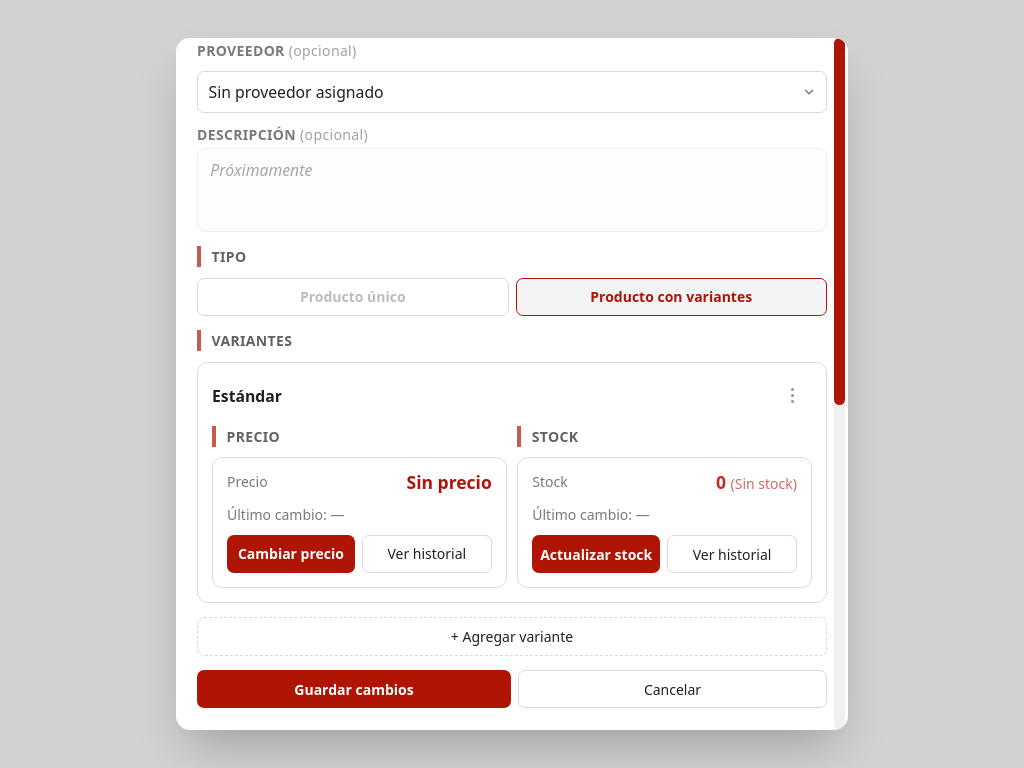
ProductDetailPage › changes a variant price through the modal
The image size is (1024, 768).
(page scrolled)
Expected: the text "Sin precio" is shown, top-left (406, 472), bottom-right (492, 494)
Click the button "Cambiar precio" at coordinates (291, 554), box top-left (227, 535), bottom-right (355, 573)
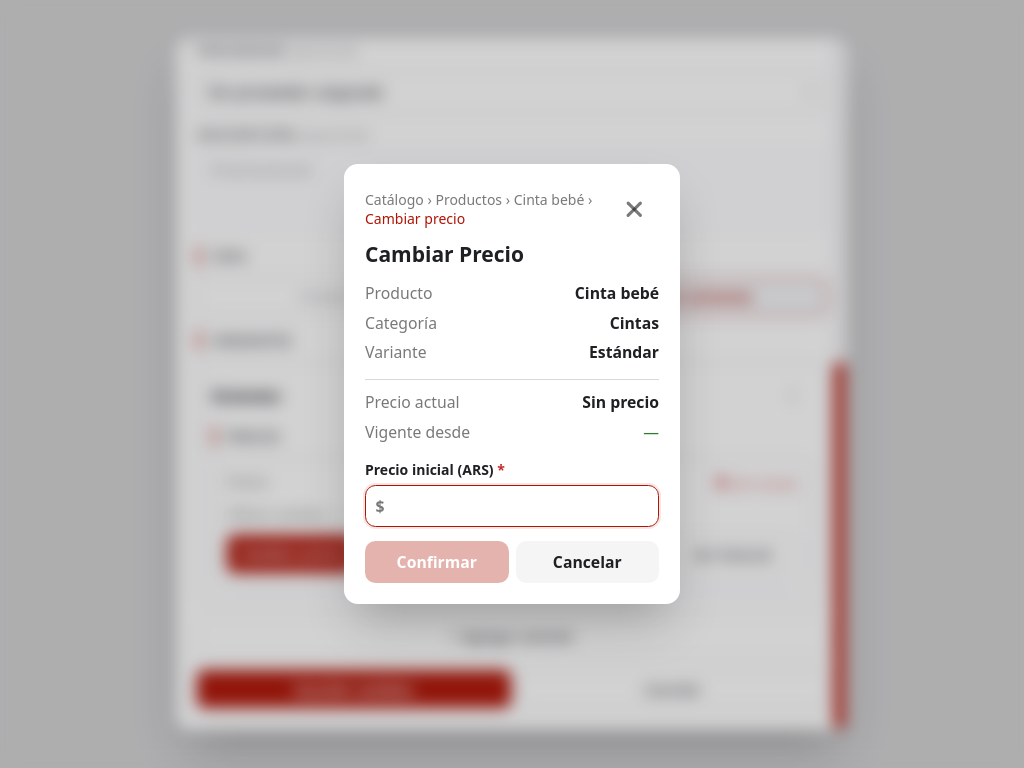
Type "45.50" into the field labelled "Precio inicial (ARS)" at coordinates (512, 506), box top-left (365, 485), bottom-right (659, 527)
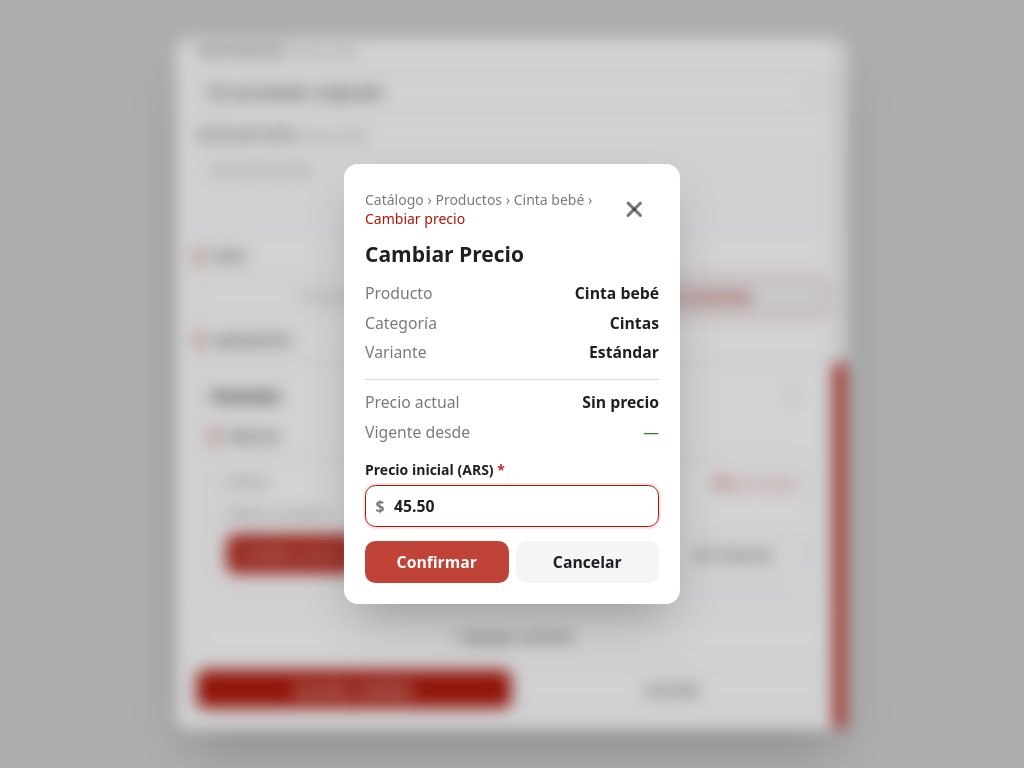
Click the button "Confirmar" at coordinates (437, 562), box top-left (365, 541), bottom-right (508, 583)
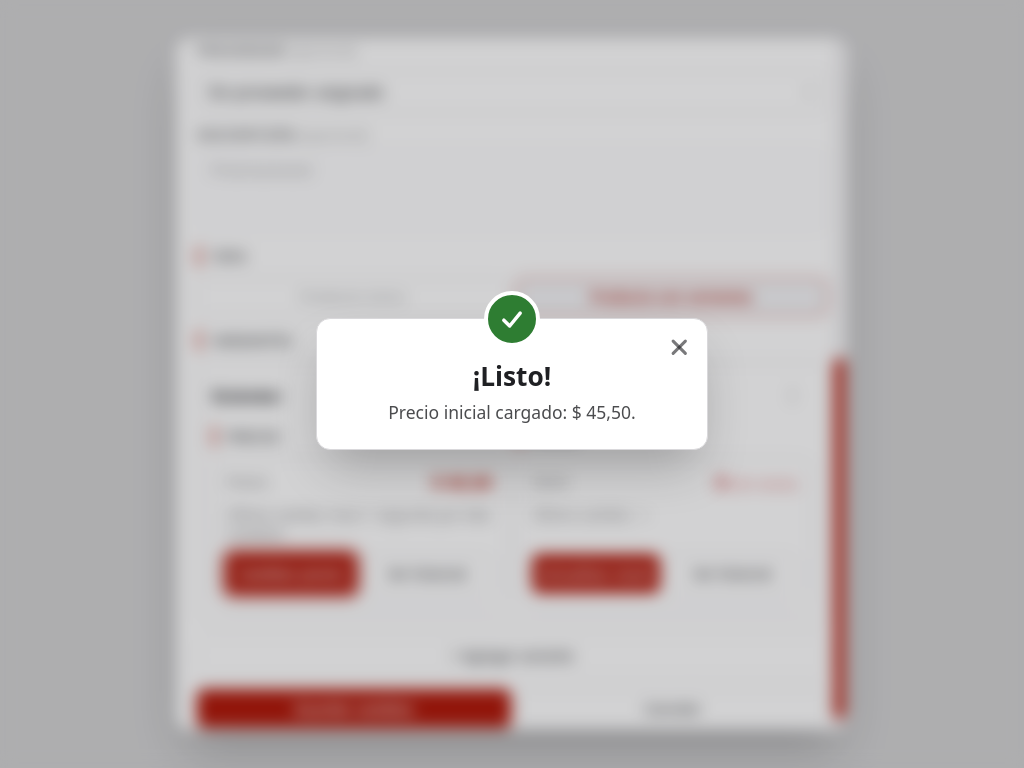
Expected: the text "$ 45,50" is shown, top-left (432, 472), bottom-right (492, 494)
